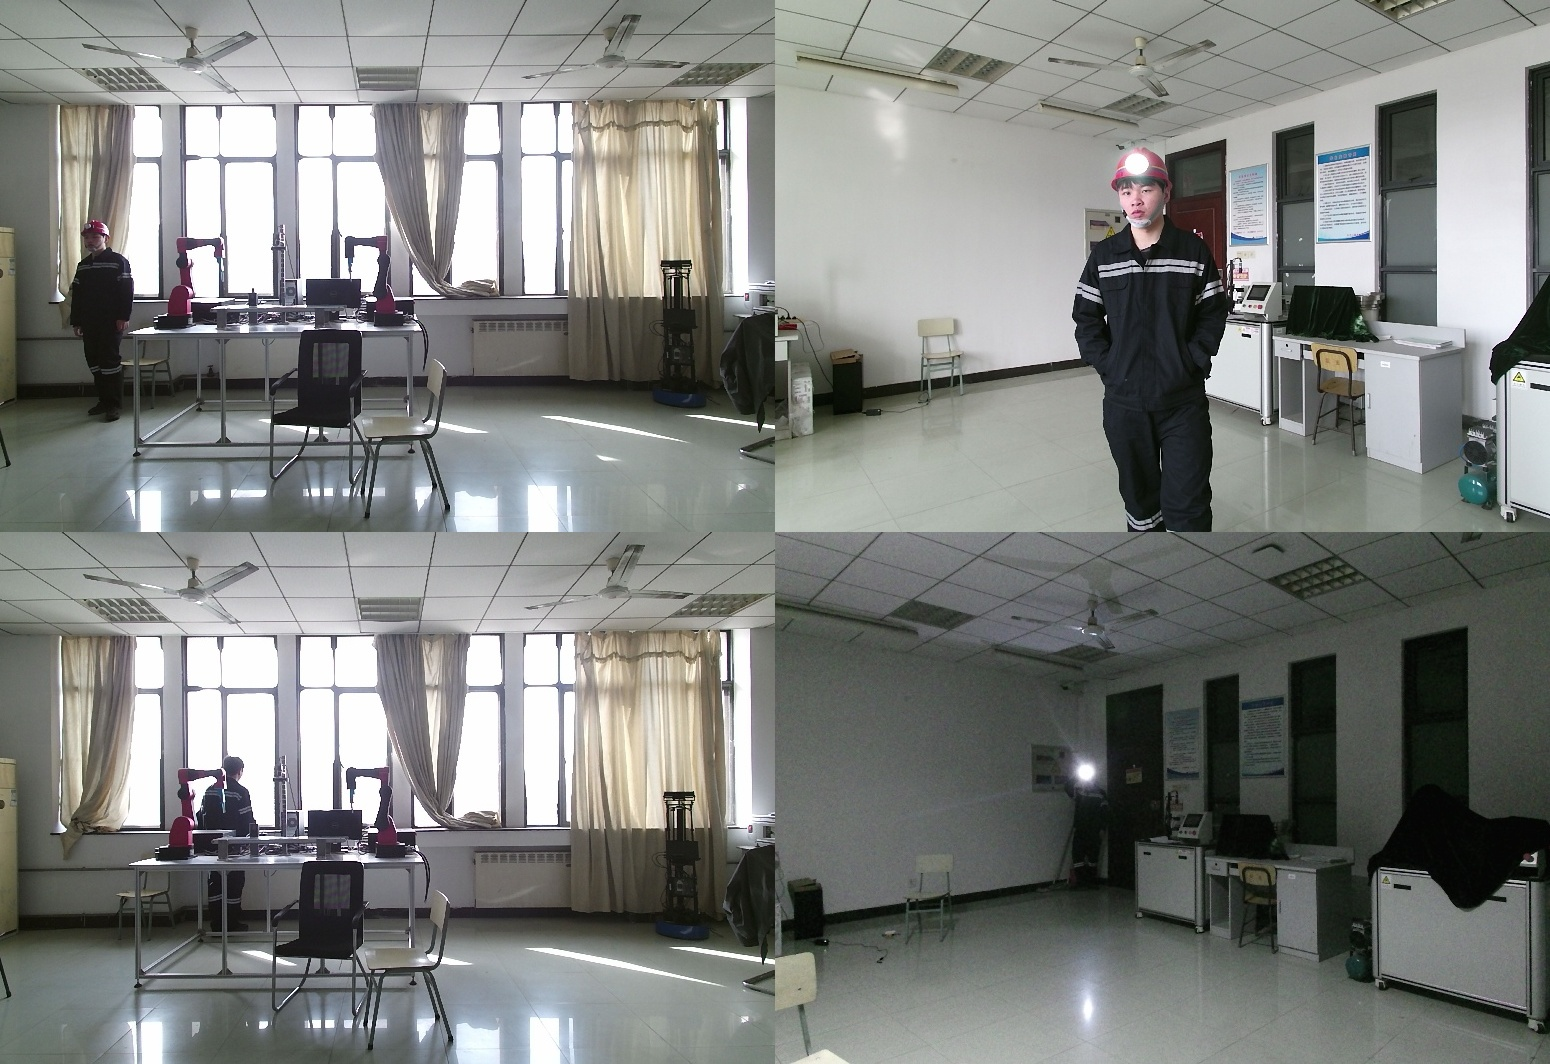person: (1075, 153, 1242, 532), (59, 222, 133, 422), (198, 760, 254, 949), (1061, 768, 1108, 887)
